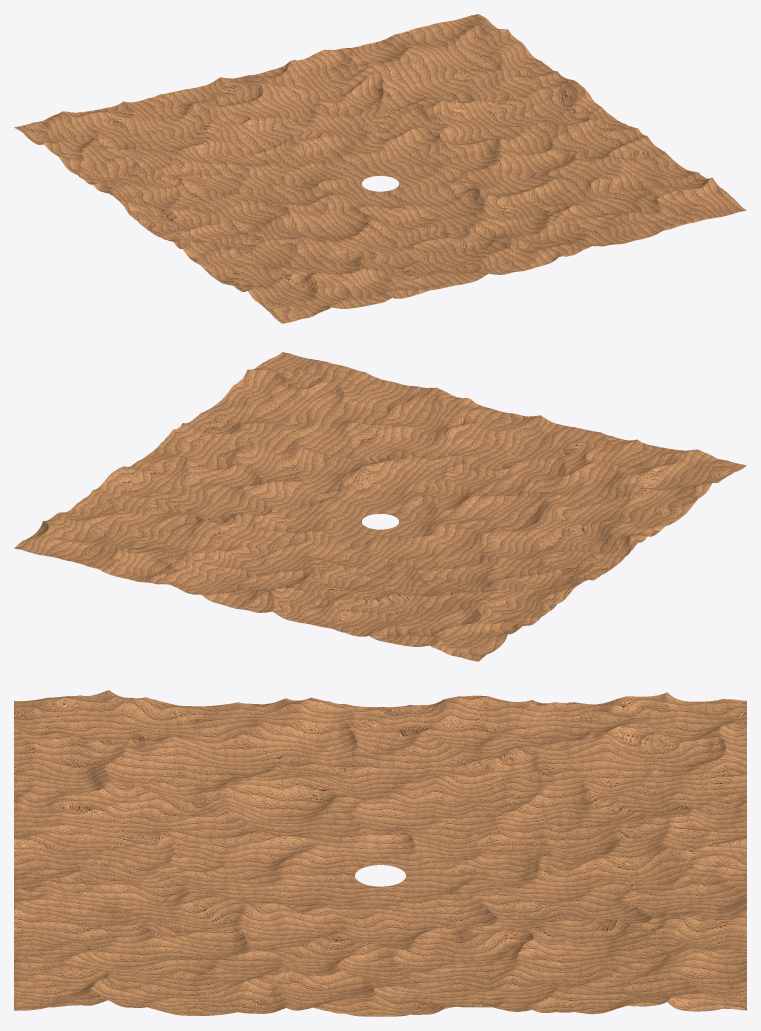
3 views of the same model, one above another, from view 1: azimuth 30°, elevation 25°; view 2: azimuth 150°, elevation 25°; view 3: azimuth 270°, elevation 25° (orthographic). The views are drawn at different scales.
Parts seen in each view (by area): view 1: land_out; view 2: land_out; view 3: land_out.
Part boxes in pixels (bbox=[...]): land_out: bbox=[14, 14, 746, 323]; land_out: bbox=[14, 352, 746, 661]; land_out: bbox=[14, 690, 746, 1016].
Bounding box in the file's own units: 3002 × 150 × 3002.
Materials: 1 (1 with a texture image).
